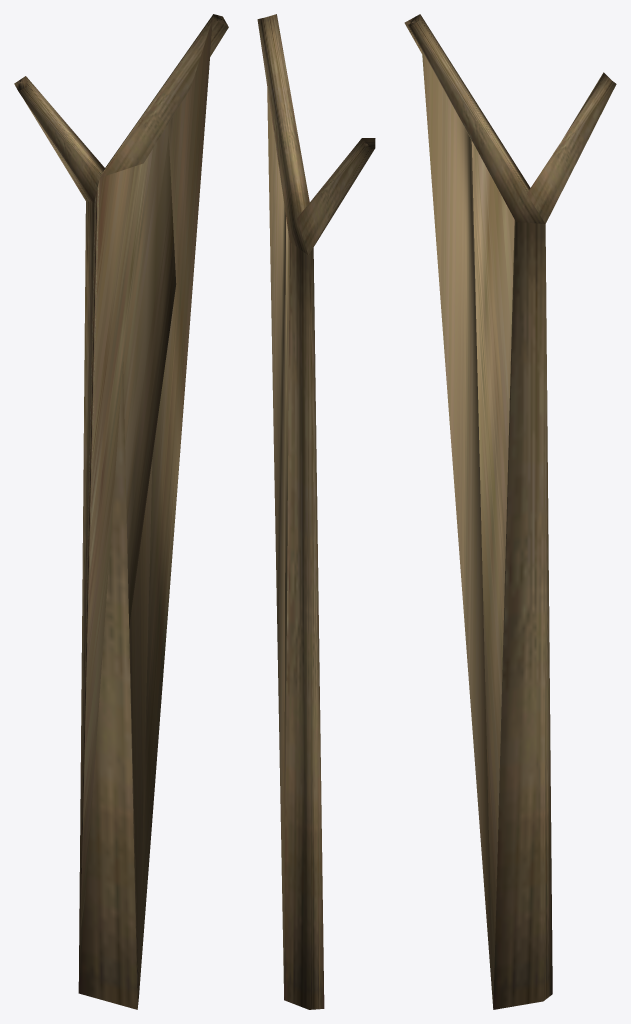
File: stst66.dae
3 renders of one model, left to right at view 1: azimuth 90°, elevation 25°; view 2: azimuth 210°, elevation 25°; view 3: azimuth 270°, elevation 25°, orthographic. The views are drawn at different scales.
Visible parts, largest first — view 1: hor, ver; view 2: ver, hor; view 3: ver, hor.
Boxes of the visible parts, box(x1,y1,x2,y2) form: hor: box(78, 19, 212, 994); ver: box(14, 14, 228, 1009); ver: box(257, 14, 375, 1009); hor: box(267, 88, 289, 996); ver: box(404, 14, 616, 1009); hor: box(422, 50, 515, 1007).
Bounding box in the file's own units: 0.0407 × 0.1683 × 0.8591.
Materials: 1 (1 with a texture image).
